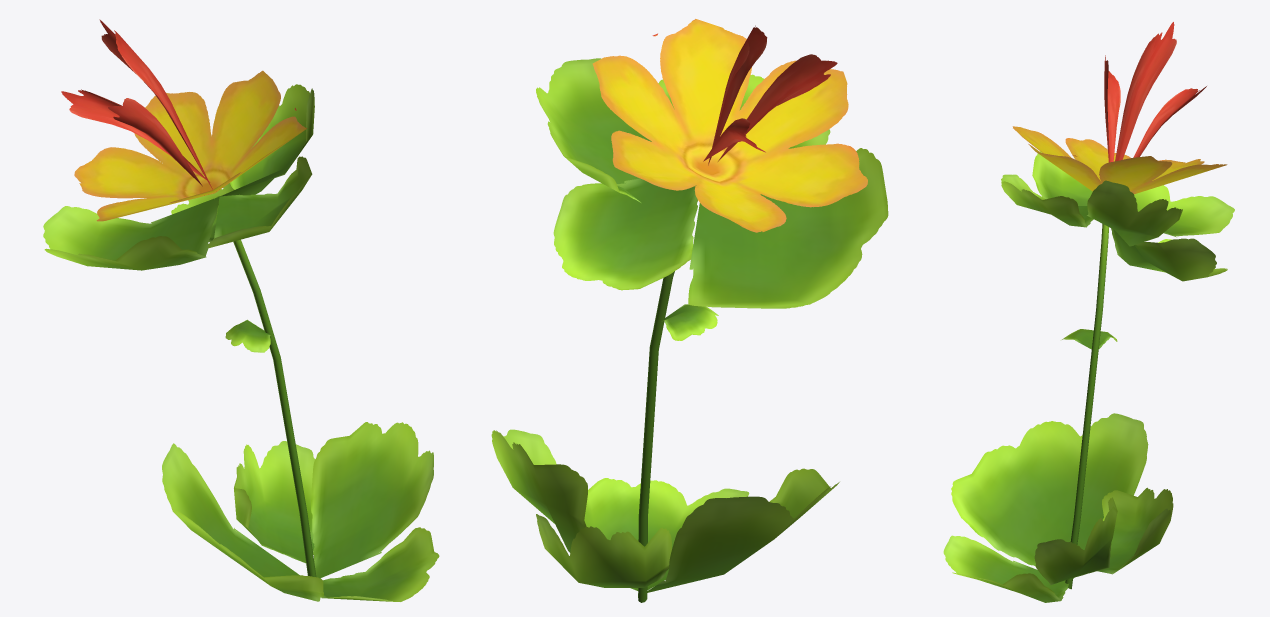
Rendered from Flower_7_Single.glb.
3 renders of one model, left to right at view 1: azimuth 30°, elevation 25°; view 2: azimuth 150°, elevation 25°; view 3: azimuth 270°, elevation 25°, orthographic. The views are drawn at different scales.
Parts seen in each view (by area): view 1: Flower_7_Single; view 2: Flower_7_Single; view 3: Flower_7_Single.
Boxes of the visible parts, x1=… form: Flower_7_Single: x1=43, y1=19, x2=439, y2=601; Flower_7_Single: x1=491, y1=19, x2=888, y2=602; Flower_7_Single: x1=943, y1=22, x2=1234, y2=602.
Size of the model in its own units: 1.04 by 1.58 by 0.9136.
2 materials, 2 textured.
